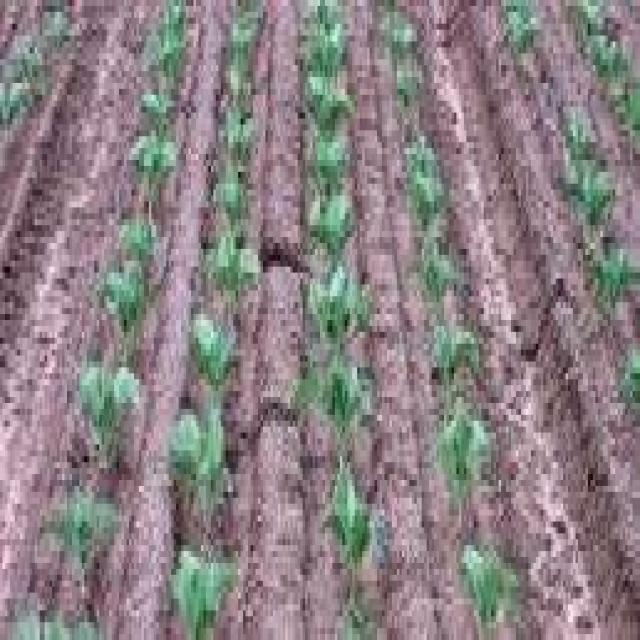row: (416, 0, 640, 640), (0, 1, 156, 640), (342, 0, 479, 640), (95, 0, 230, 640), (230, 0, 342, 640), (537, 0, 640, 285), (1, 0, 40, 82), (608, 2, 640, 80)
